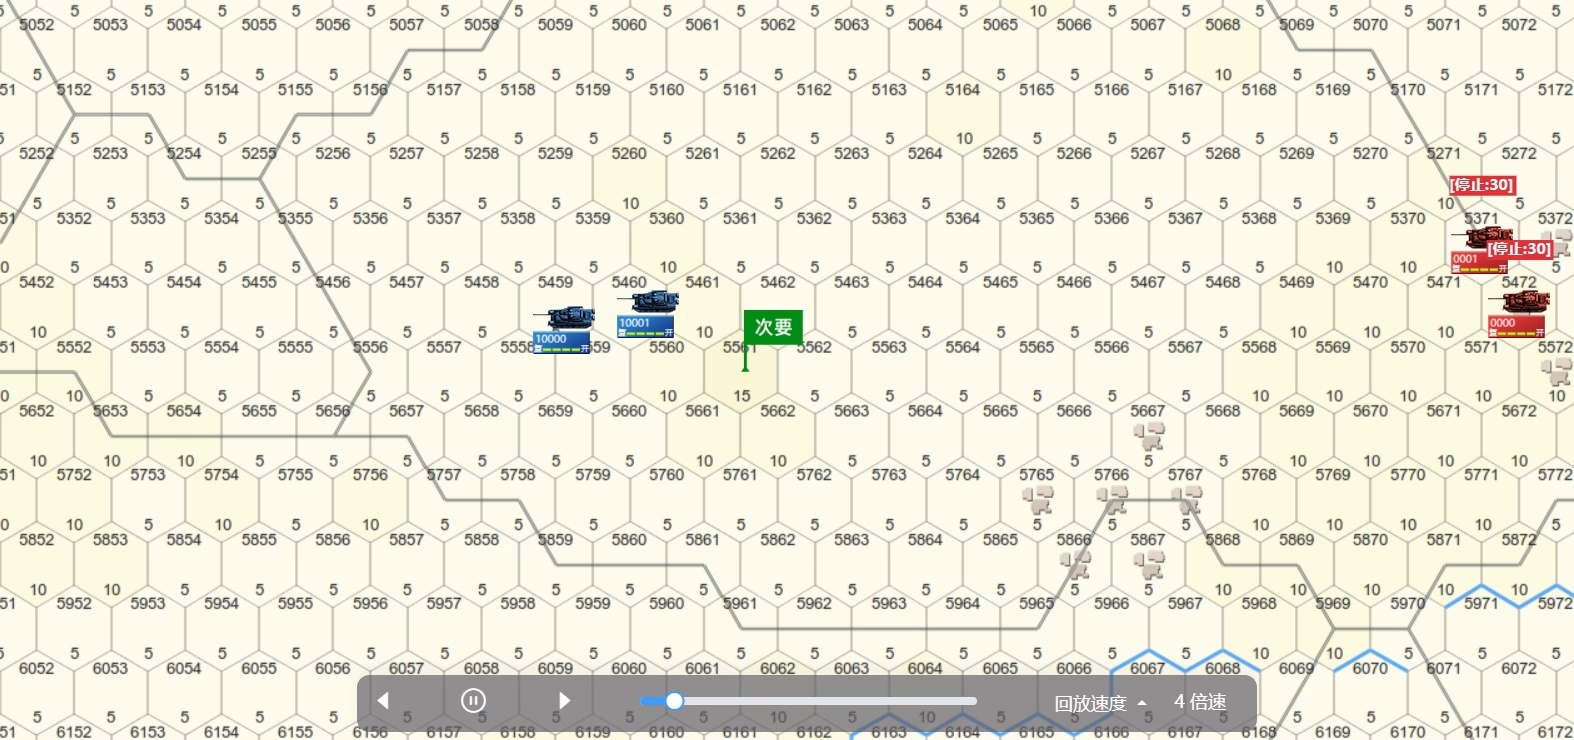blue_tank: (531, 306, 600, 362), (614, 294, 684, 343)
red_tank: (1488, 288, 1551, 342), (1448, 233, 1514, 278)
